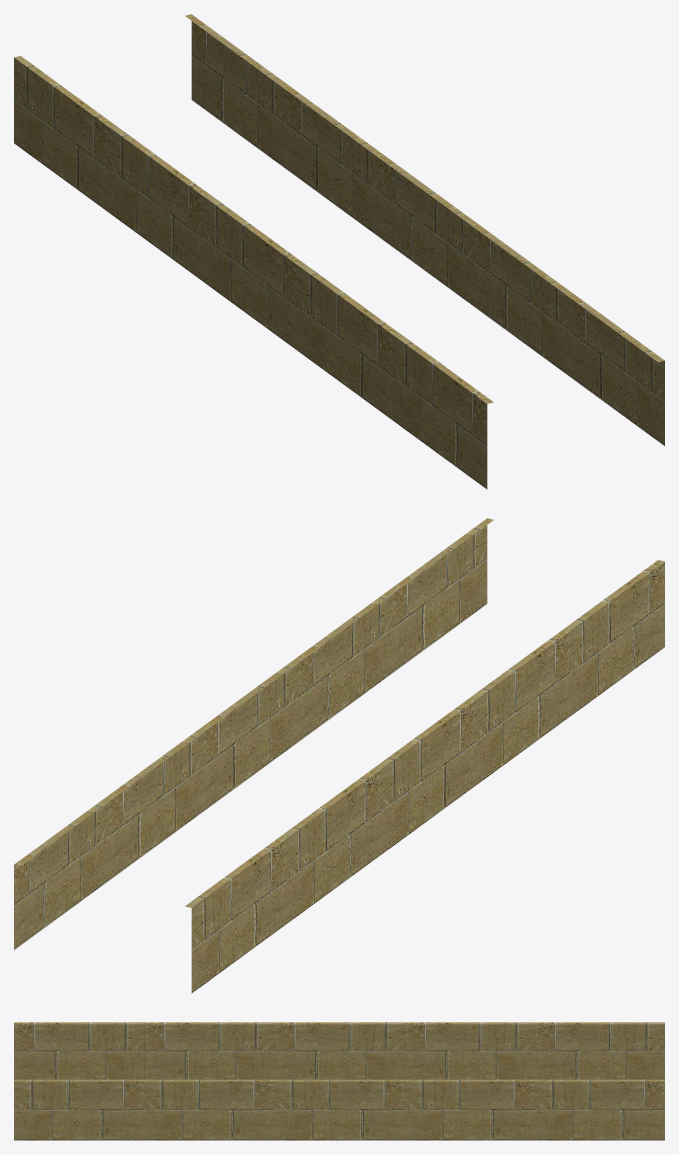
Rendered from zdWallCurb1x2.fbx.
3 views of the same model, one above another, from view 1: azimuth 30°, elevation 25°; view 2: azimuth 150°, elevation 25°; view 3: azimuth 270°, elevation 25° (orthographic). The views are drawn at different scales.
Visible parts, largest first — view 1: SketchUp, SketchUp.001; view 2: SketchUp, SketchUp.001; view 3: SketchUp.001, SketchUp.
Boxes of the visible parts, <box> form: SketchUp: <box>14,56,493,489</box>; SketchUp.001: <box>185,14,664,445</box>; SketchUp: <box>185,560,664,993</box>; SketchUp.001: <box>14,518,493,949</box>; SketchUp.001: <box>14,1079,664,1140</box>; SketchUp: <box>14,1022,664,1079</box>.
Size of the model in its own units: 0.6604 by 0.3048 by 3.05.
